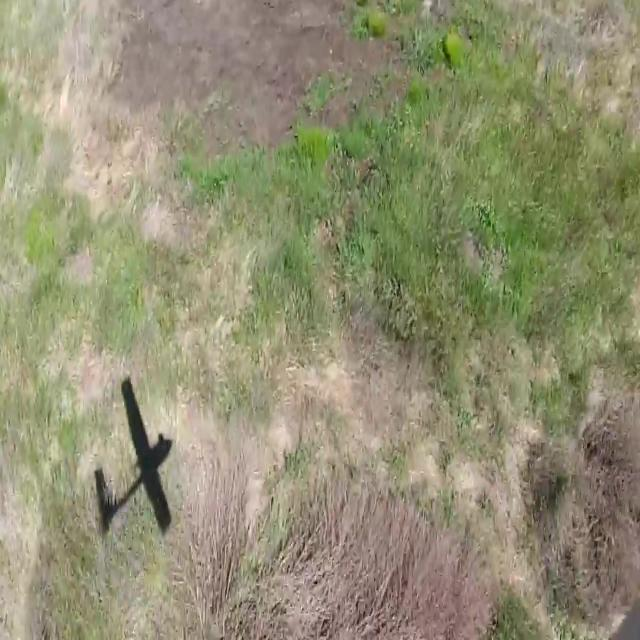iha: (126, 368, 141, 533)
